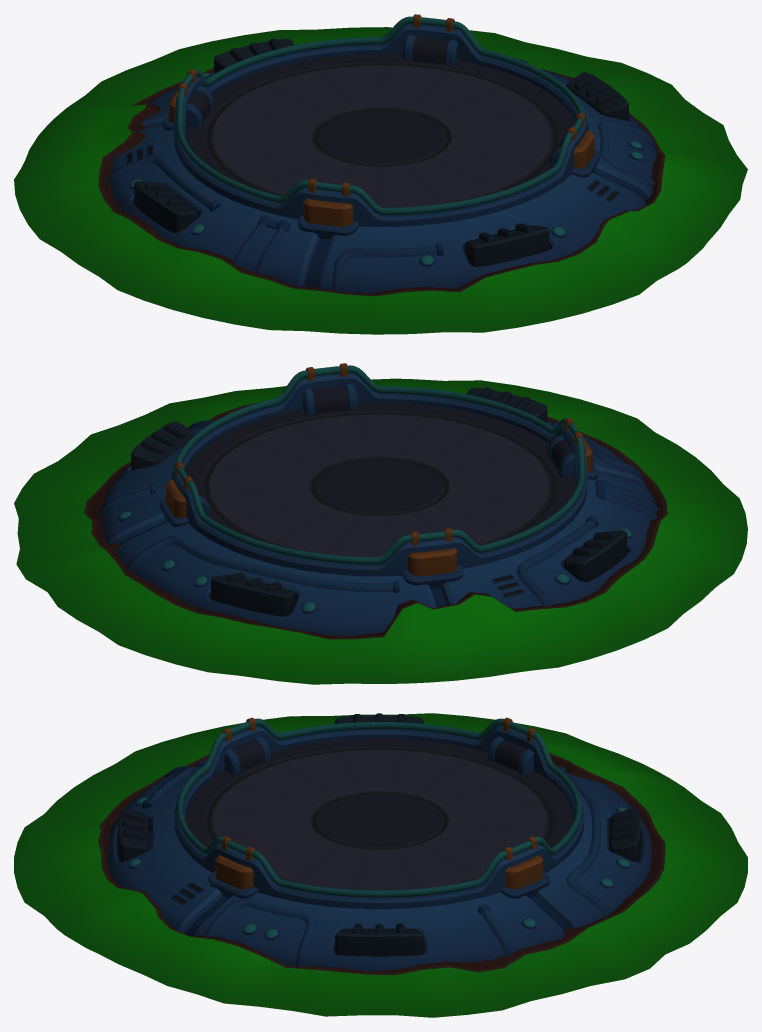
File: Ufo_Base.fbx
3 renders of one model, top to bottom at view 1: azimuth 30°, elevation 25°; view 2: azimuth 150°, elevation 25°; view 3: azimuth 270°, elevation 25°, orthographic.
Parts seen in each view (by area): view 1: Ufo_Base; view 2: Ufo_Base; view 3: Ufo_Base.
Boxes of the visible parts, box(x1,y1,x2,y2) form: Ufo_Base: box(14, 14, 747, 334); Ufo_Base: box(14, 363, 747, 684); Ufo_Base: box(14, 713, 747, 1017).
Bounding box in the file's own units: 8.12 × 1.02 × 8.27.
